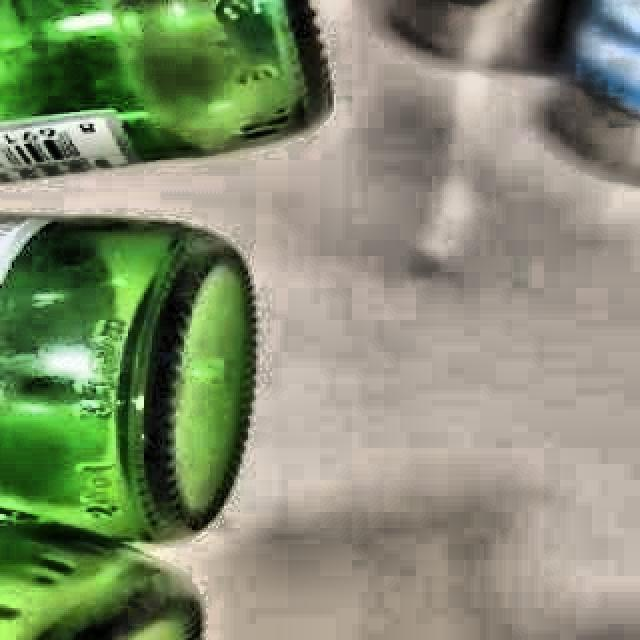glass: (0, 211, 265, 640)
